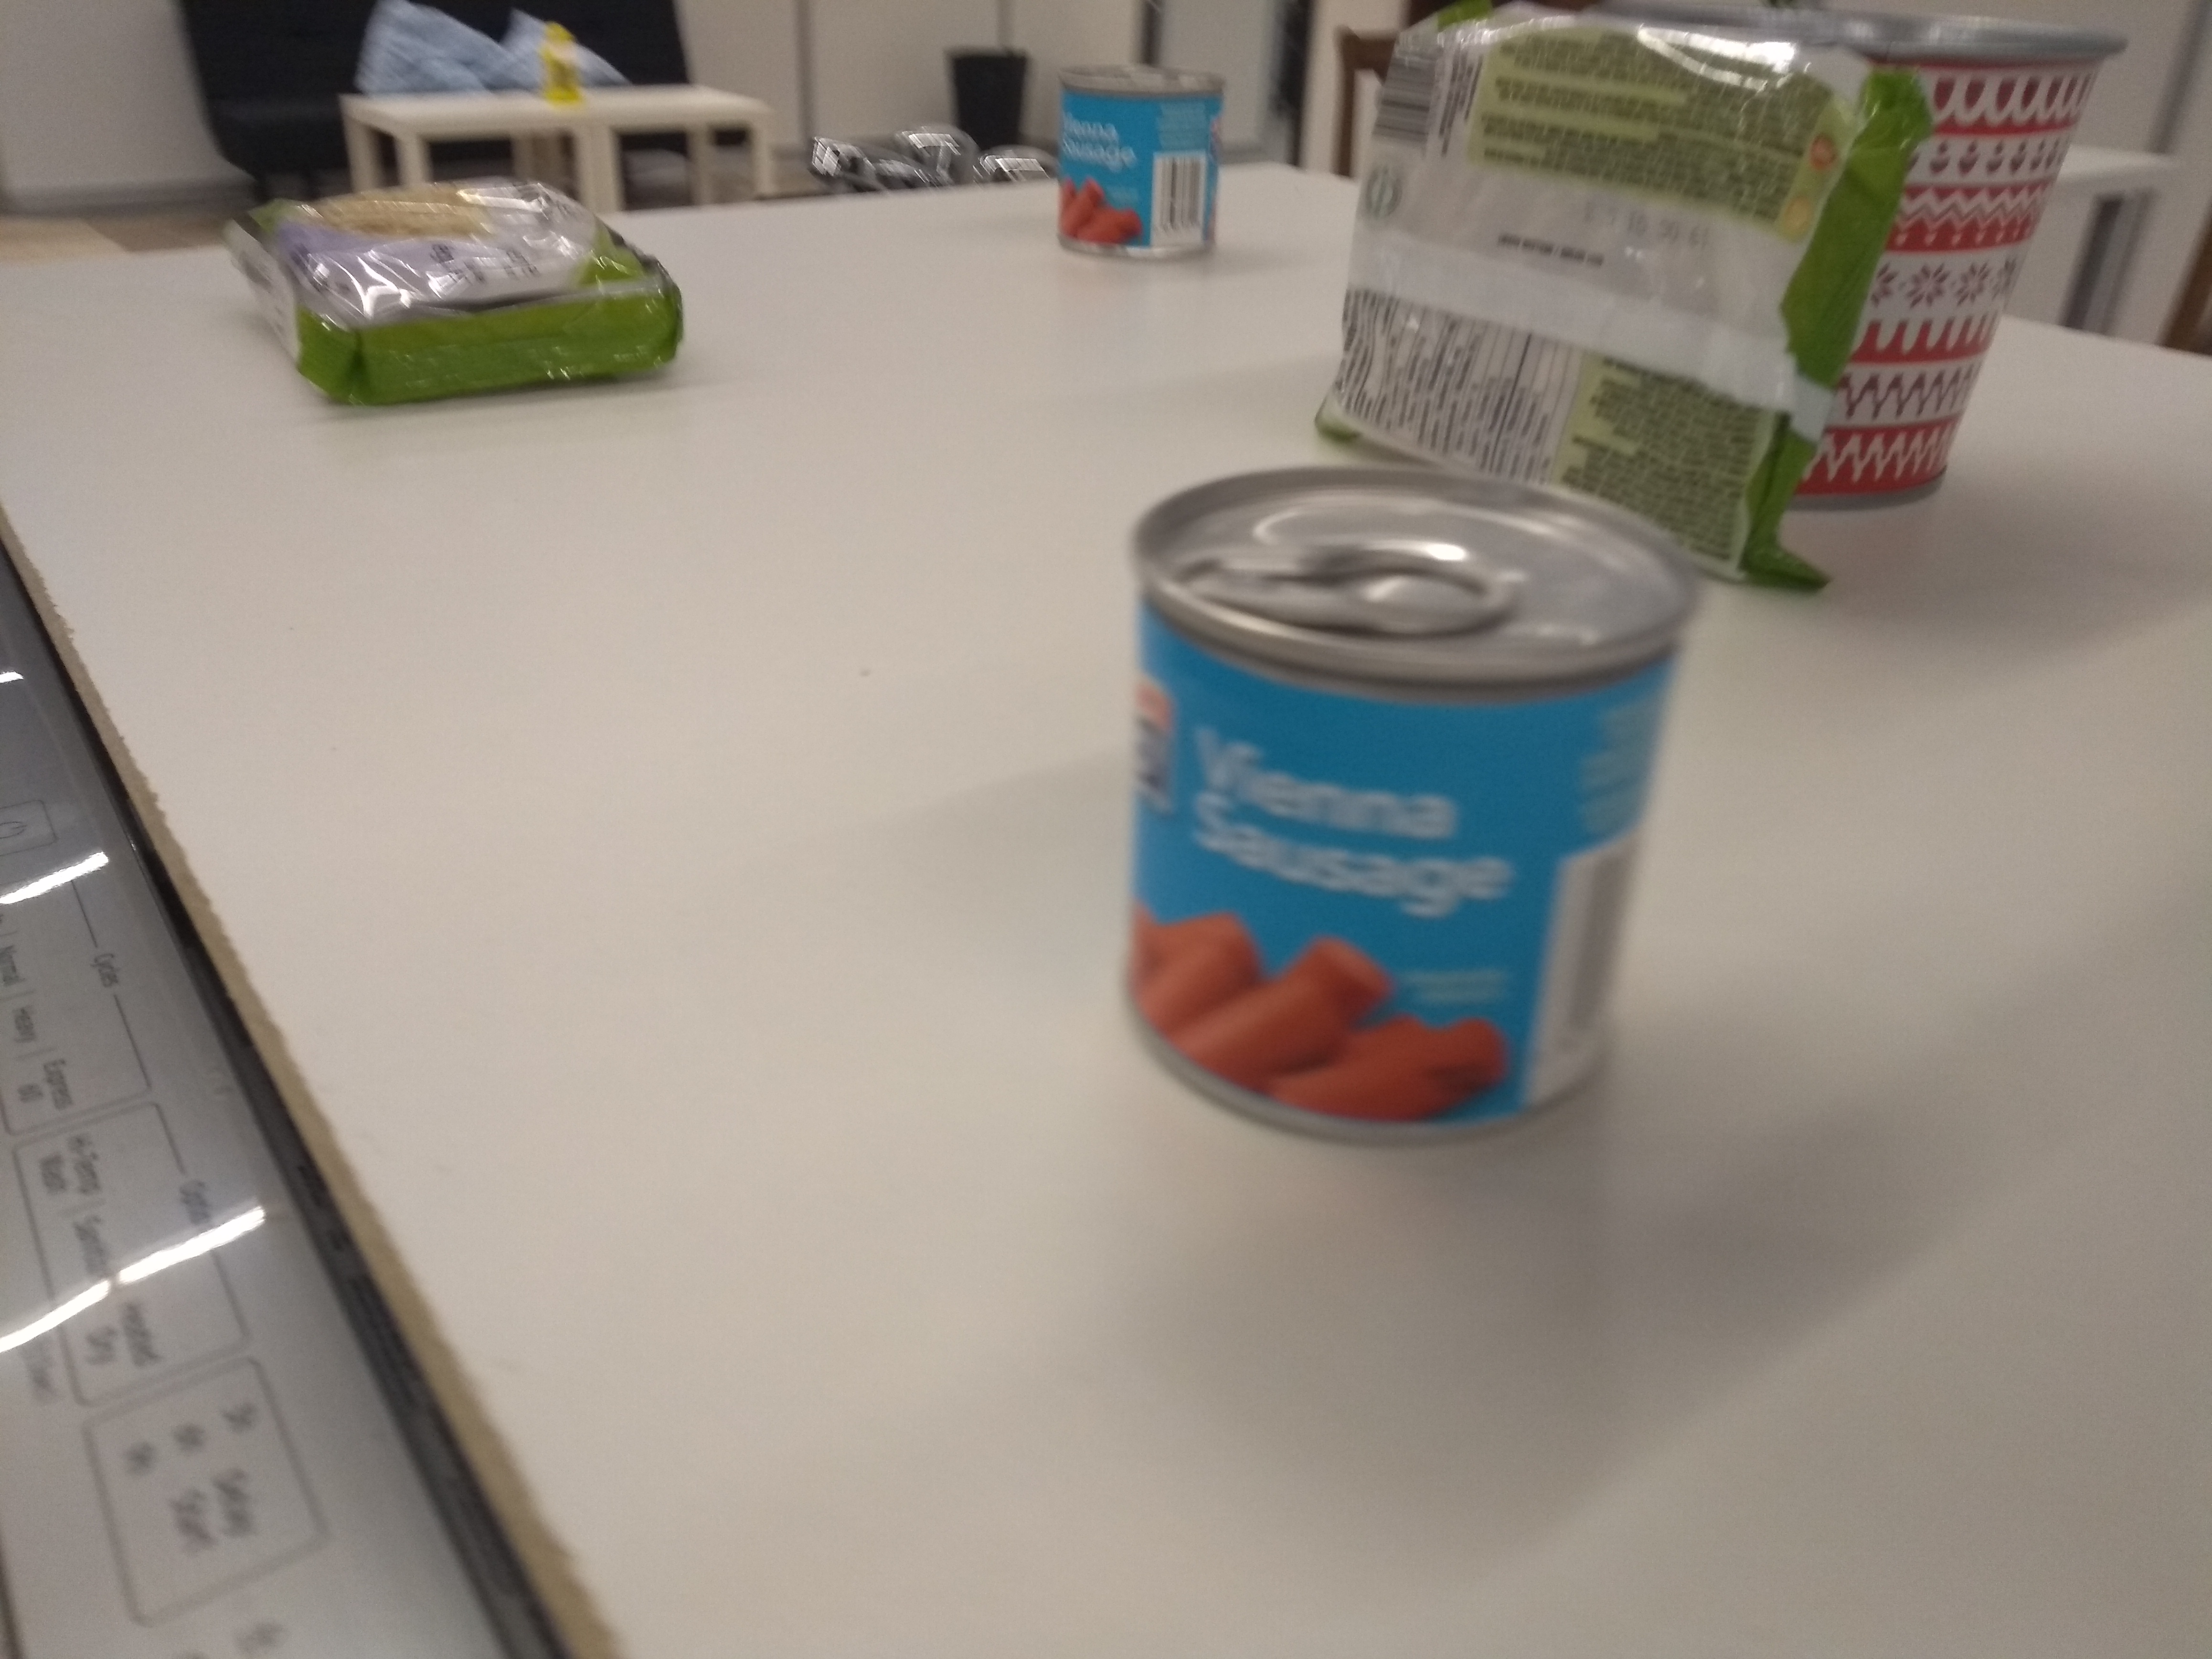noodles: (1312, 0, 1951, 612), (218, 171, 707, 429)
sausages: (1103, 451, 1716, 1176), (1047, 47, 1238, 268)
